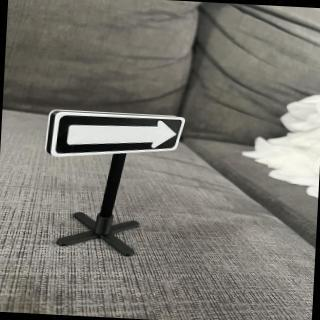sign_oneway_right: (51, 109, 188, 166)
